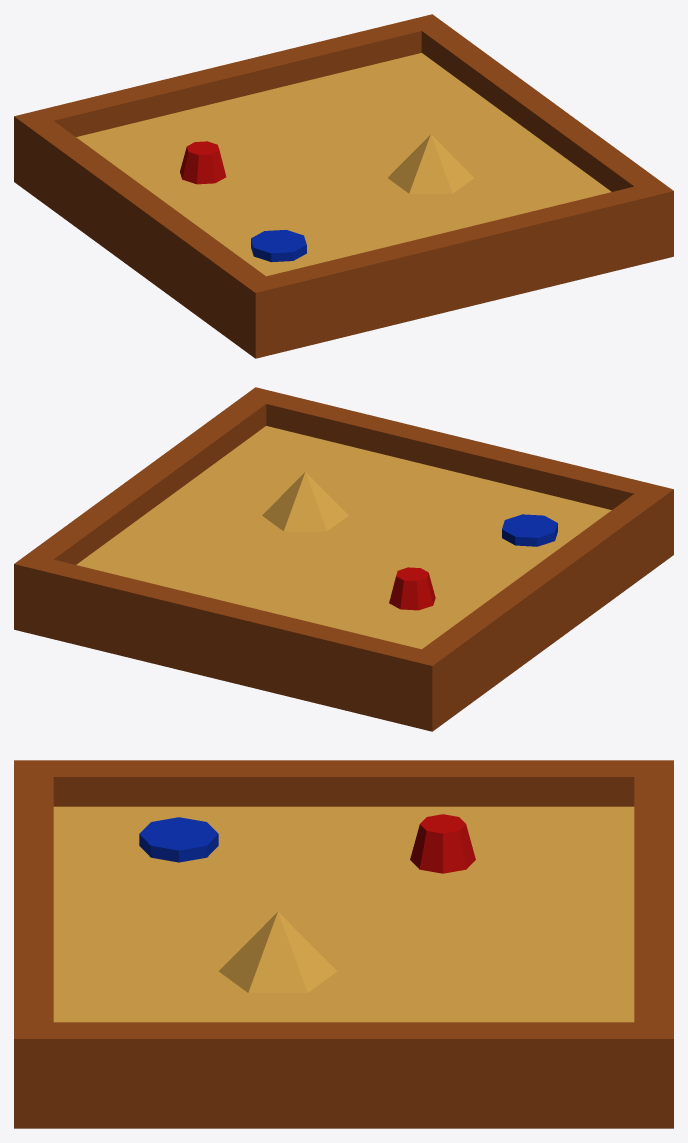
The model's file is sandbox.obj.
The picture shows the model from 3 angles, top to bottom: view 1: azimuth 30°, elevation 25°; view 2: azimuth 150°, elevation 25°; view 3: azimuth 270°, elevation 25°; orthographic projection. The views are drawn at different scales.
Visible parts, largest first — view 1: sandbox; view 2: sandbox; view 3: sandbox.
Boxes of the visible parts, bbox=[...] form: sandbox: bbox=[14, 14, 673, 358]; sandbox: bbox=[14, 387, 673, 731]; sandbox: bbox=[14, 760, 673, 1128].
Bounding box in the file's own units: 2 × 0.4 × 2.
